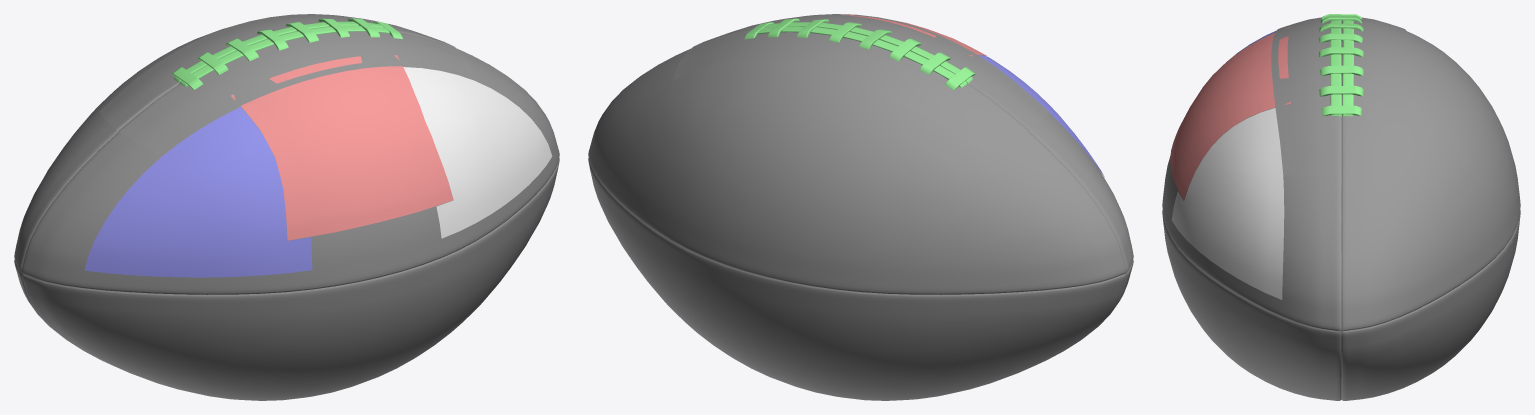
Rendered from Football_06_SM.gltf.
The picture shows the model from 3 angles, left to right: view 1: azimuth 30°, elevation 25°; view 2: azimuth 150°, elevation 25°; view 3: azimuth 270°, elevation 25°; orthographic projection. The views are drawn at different scales.
Visible parts, largest first — view 1: Football_06_SM; view 2: Football_06_SM; view 3: Football_06_SM.
Part boxes in pixels (x1,y1,x2,y2): Football_06_SM: (14, 14, 559, 400); Football_06_SM: (588, 14, 1133, 400); Football_06_SM: (1162, 14, 1520, 400).
Size of the model in its own units: 3.06 by 1.92 by 1.89.
